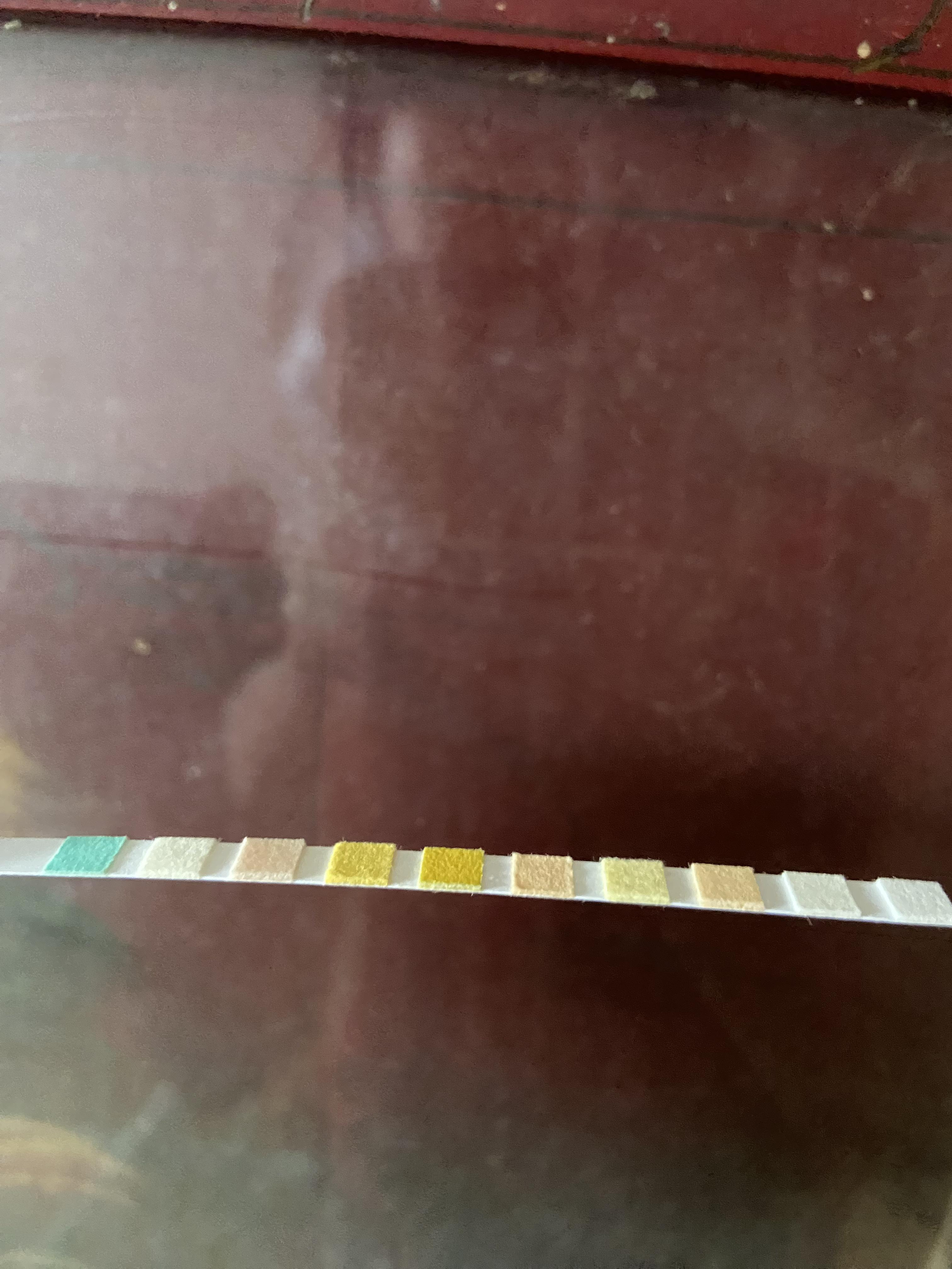Bilirubin: (158, 839, 196, 873)
Blood: (427, 848, 480, 885)
Glucose: (69, 836, 103, 871)
Ketone: (248, 840, 292, 874)
Leukocytes: (903, 885, 939, 919)
Nitrite: (799, 876, 843, 907)
Protein: (605, 861, 663, 894)
SpGravity: (339, 844, 388, 882)
Urobilinogen: (704, 866, 753, 900)
pH: (516, 856, 570, 889)
strip: (0, 836, 952, 926)
